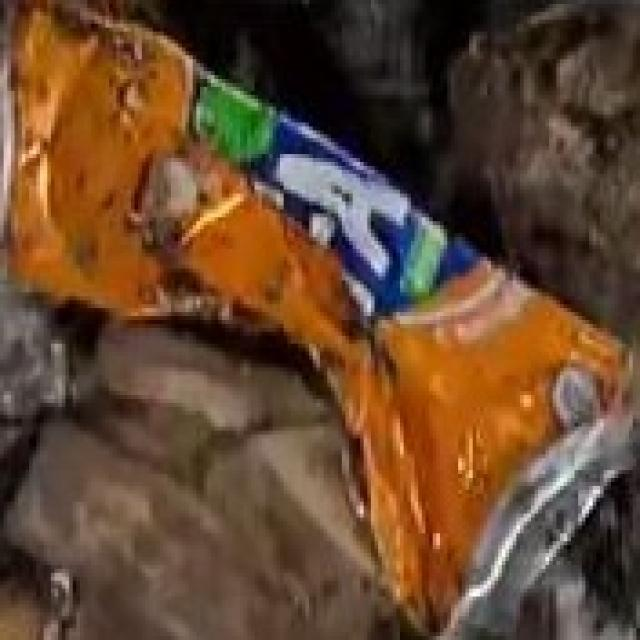can: (2, 2, 640, 640)
